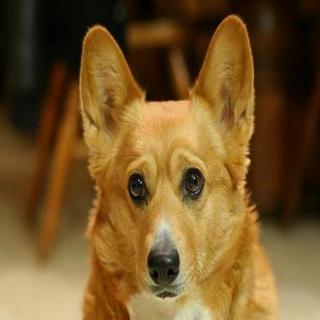dog: (74, 14, 257, 311)
nose: (146, 246, 182, 289)
